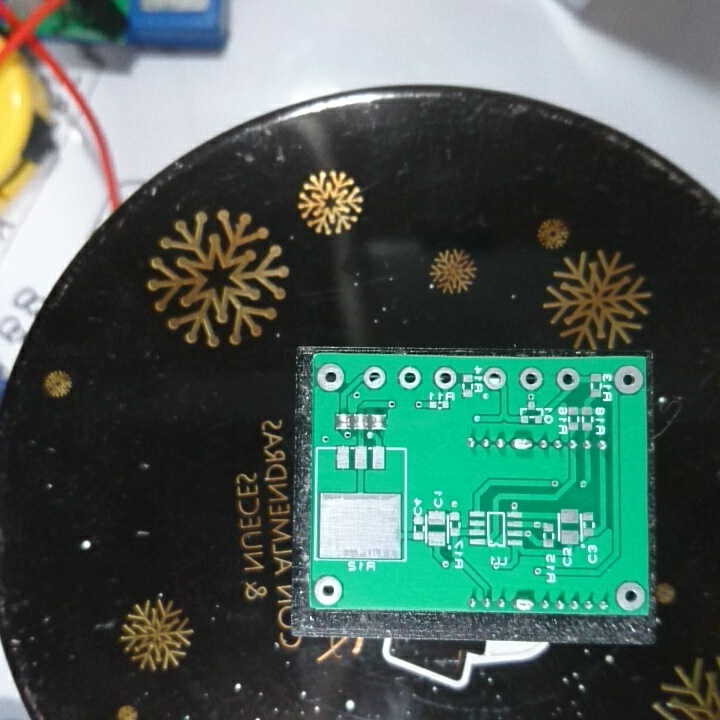F: (611, 362, 644, 399), (613, 580, 647, 612), (316, 361, 348, 393), (314, 574, 346, 606), (359, 364, 392, 392), (554, 364, 582, 395), (395, 363, 423, 393), (430, 363, 459, 391), (479, 363, 507, 392), (519, 364, 546, 392)
P: (509, 435, 536, 455), (512, 596, 536, 614)
